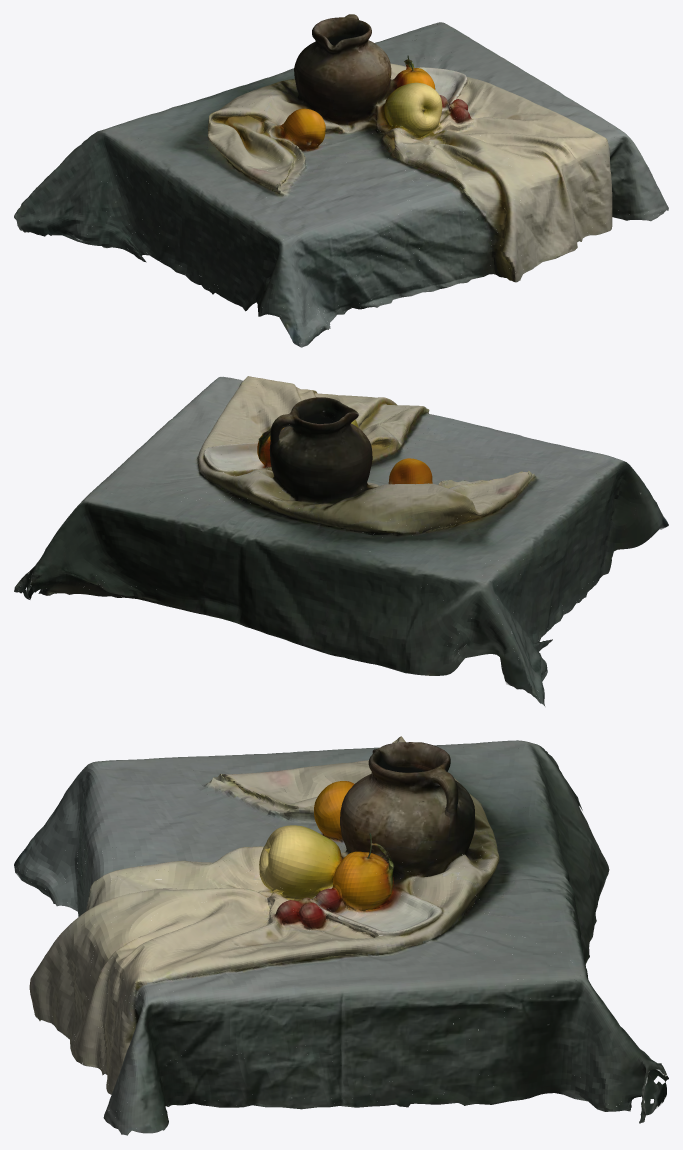
Rendered from 静物系列_陶罐水果03_opt.glb.
The picture shows the model from 3 angles, top to bottom: view 1: azimuth 30°, elevation 25°; view 2: azimuth 150°, elevation 25°; view 3: azimuth 270°, elevation 25°; orthographic projection. The views are drawn at different scales.
Visible parts, largest first — view 1: fyhtre3defaultMat_2, fyhtre3defaultMat, fyhtre3defaultMat_4, fyhtre3defaultMat_6; view 2: fyhtre3defaultMat, fyhtre3defaultMat_2, fyhtre3defaultMat_4, fyhtre3defaultMat_6; view 3: fyhtre3defaultMat_4, fyhtre3defaultMat_2, fyhtre3defaultMat, fyhtre3defaultMat_6.
Part boxes in pixels (x1,y1,x2,y2): fyhtre3defaultMat_2: [16, 14, 668, 340]; fyhtre3defaultMat: [16, 16, 654, 344]; fyhtre3defaultMat_4: [220, 16, 662, 307]; fyhtre3defaultMat_6: [14, 59, 666, 347]; fyhtre3defaultMat: [15, 381, 668, 706]; fyhtre3defaultMat_2: [22, 377, 665, 705]; fyhtre3defaultMat_4: [18, 376, 653, 656]; fyhtre3defaultMat_6: [14, 413, 667, 705]; fyhtre3defaultMat_4: [30, 742, 666, 1118]; fyhtre3defaultMat_2: [18, 736, 666, 1135]; fyhtre3defaultMat: [15, 740, 667, 1133]; fyhtre3defaultMat_6: [14, 804, 668, 1133].
Size of the model in its own units: 1.73 by 0.6 by 1.42.
Materials: 1 (1 with a texture image).
